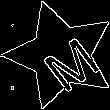M_NW: (25, 21, 96, 89)
